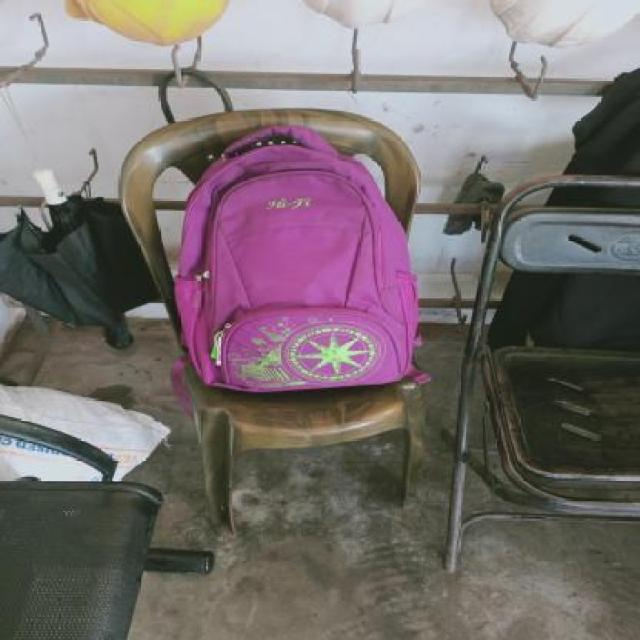backpack: (165, 118, 437, 400)
